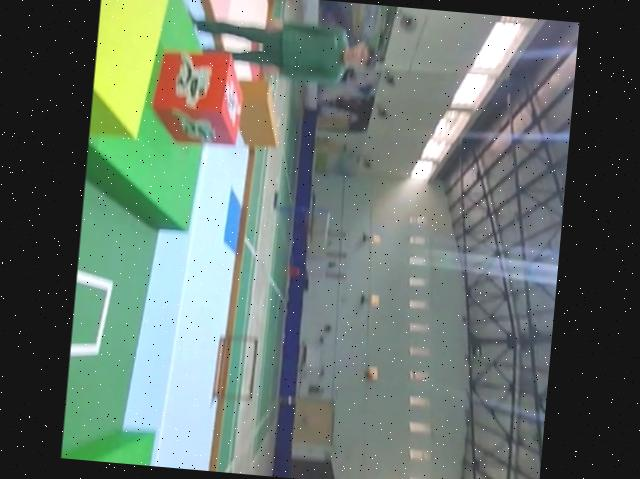R1: (149, 47, 247, 145)
